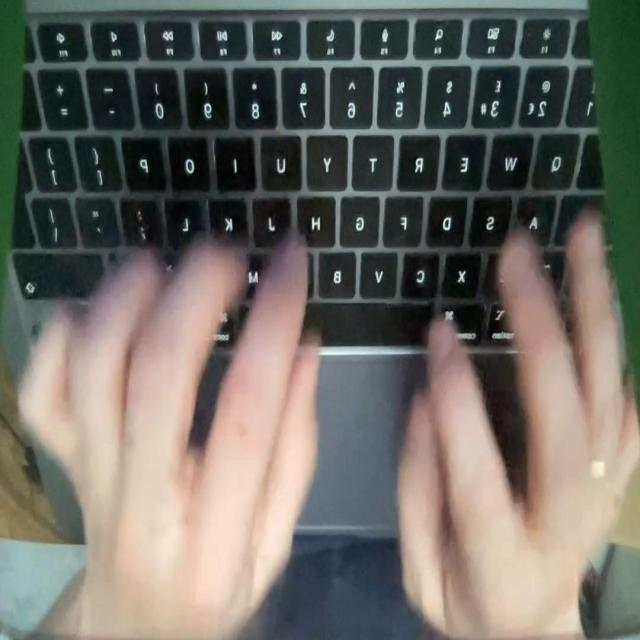keyboard-with-hands: (1, 0, 626, 537)
